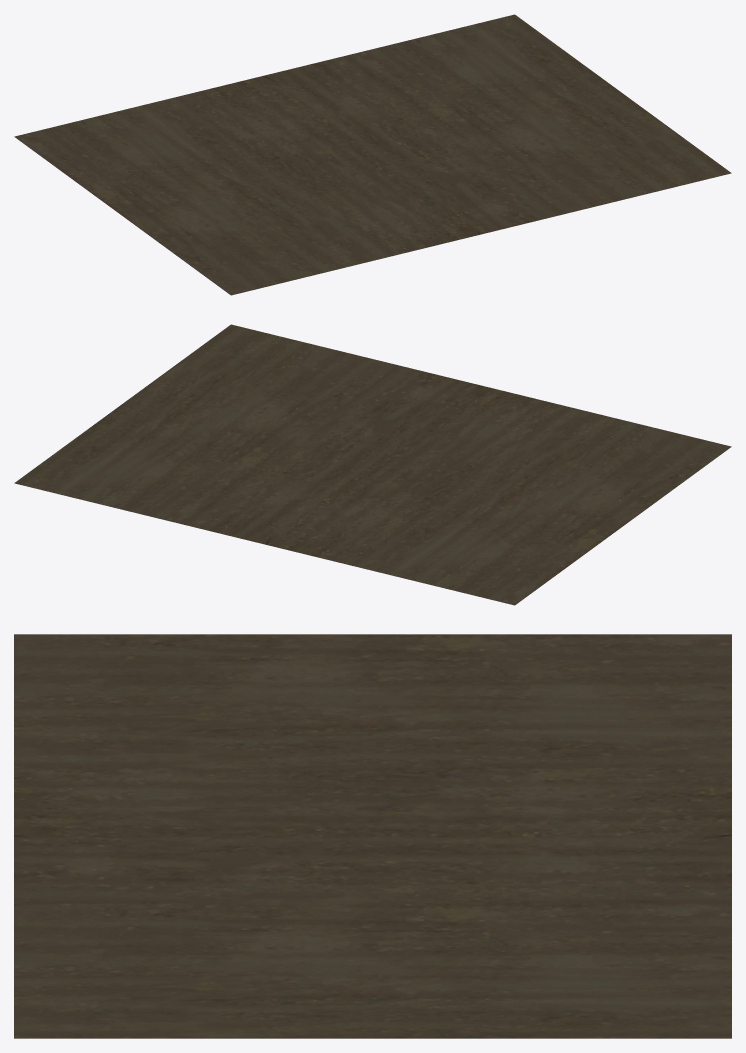
The model's file is blend_path07.fbx.
The picture shows the model from 3 angles, top to bottom: view 1: azimuth 30°, elevation 25°; view 2: azimuth 150°, elevation 25°; view 3: azimuth 270°, elevation 25°; orthographic projection. The views are drawn at different scales.
Visible parts, largest first — view 1: obj0.017; view 2: obj0.017; view 3: obj0.017.
Boxes of the visible parts, x1,y1,x2,y2 form: obj0.017: (14, 14, 731, 295); obj0.017: (14, 324, 731, 605); obj0.017: (14, 634, 731, 1038).
Bounding box in the file's own units: 8.12 × 1.7e-06 × 6.1.
